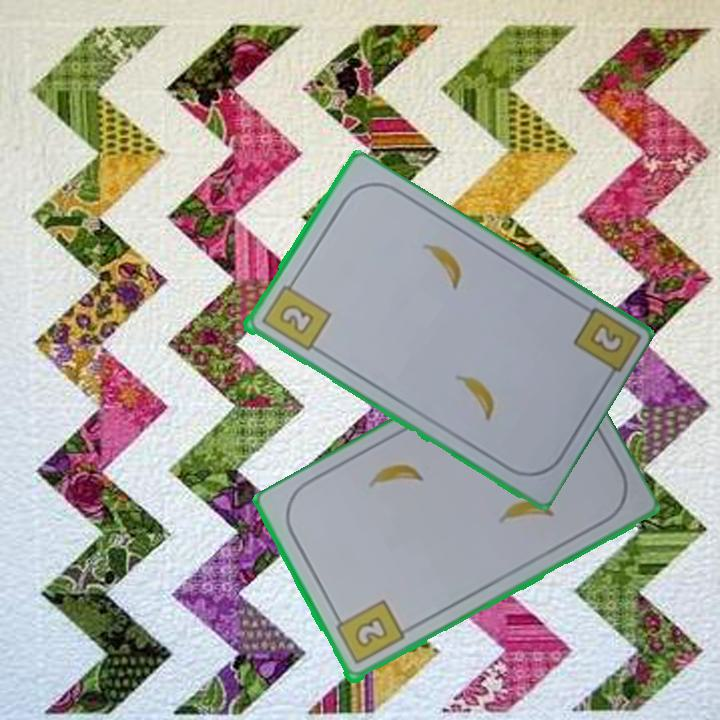2b: (257, 275, 333, 354), (331, 597, 407, 668), (585, 319, 627, 357)
